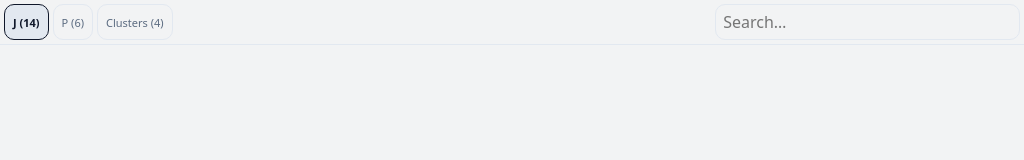
Test case: pill tooltips › falls back to the label when no long name is given
Hover over the button "Clusters (4)" at (135, 22), box [97,4,173,40]
Wait 500 ms
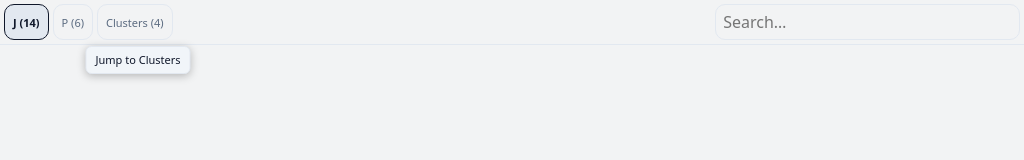
Expected: the text "Jump to Clusters" is shown, [86,46,190,74]
